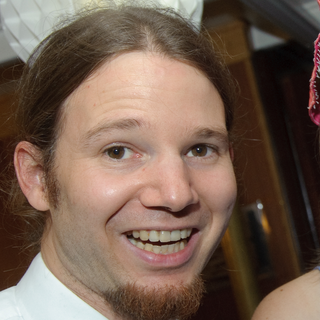eye: (92, 140, 150, 166), (179, 138, 222, 164)
